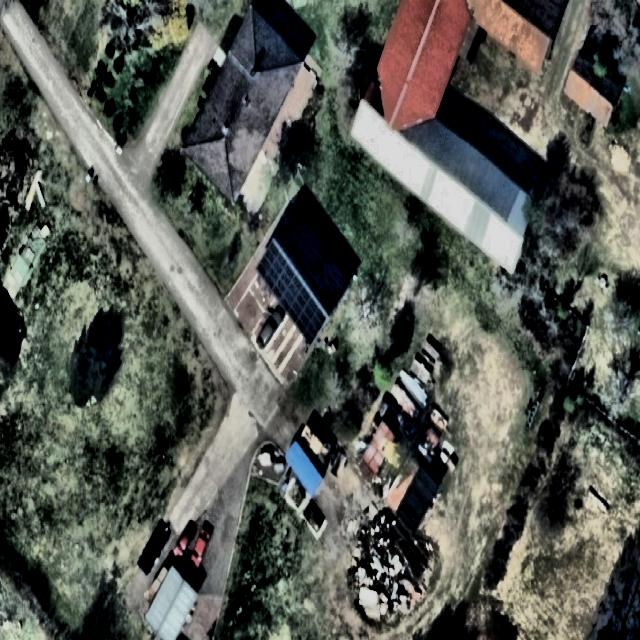roof_pv: (274, 265, 326, 347), (256, 240, 292, 290)
